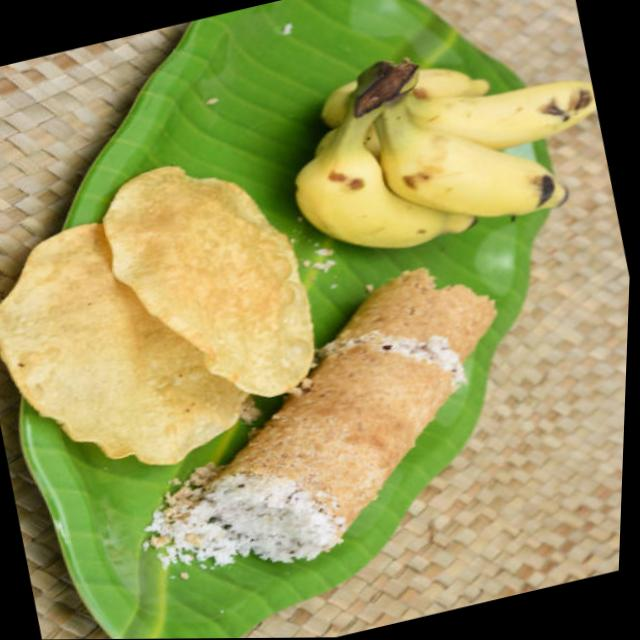BANANA: (294, 57, 591, 248)
PAPADAM: (0, 163, 313, 462)
PUTTU: (168, 273, 501, 571)
